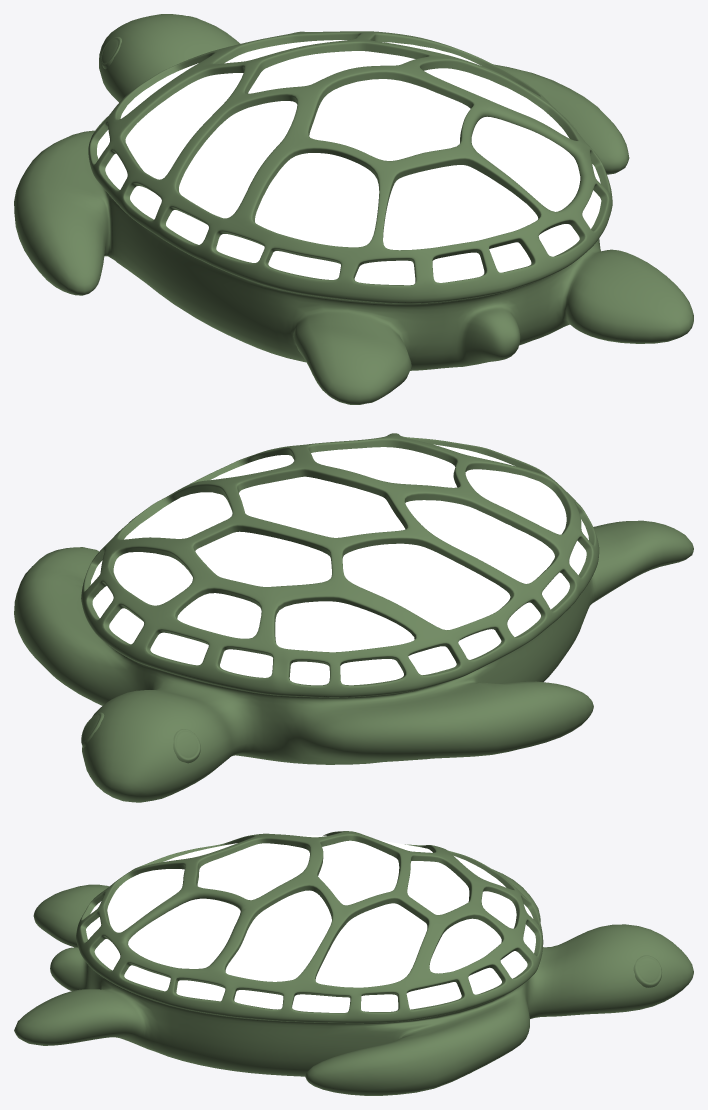
3 views of the same model, one above another, from view 1: azimuth 30°, elevation 25°; view 2: azimuth 150°, elevation 25°; view 3: azimuth 270°, elevation 25° (orthographic). The views are drawn at different scales.
Parts seen in each view (by area): view 1: Object002, Box004, Plane005; view 2: Object002, Box004, Plane005, Cylinder003; view 3: Box004, Object002, Plane005, Cylinder004.
Part boxes in pixels (x1,y1,x2,y2): Object002: (97, 40, 601, 285); Box004: (14, 14, 693, 404); Plane005: (88, 31, 612, 303); Object002: (90, 444, 588, 685); Box004: (14, 520, 693, 802); Plane005: (81, 433, 599, 697); Cylinder003: (173, 729, 200, 763); Box004: (14, 869, 693, 1095); Object002: (86, 835, 535, 1012); Plane005: (76, 831, 543, 1023); Cylinder004: (633, 955, 661, 987).
Size of the model in its own units: 0.1894 by 0.0664 by 0.2502.
2 materials, 1 textured.
